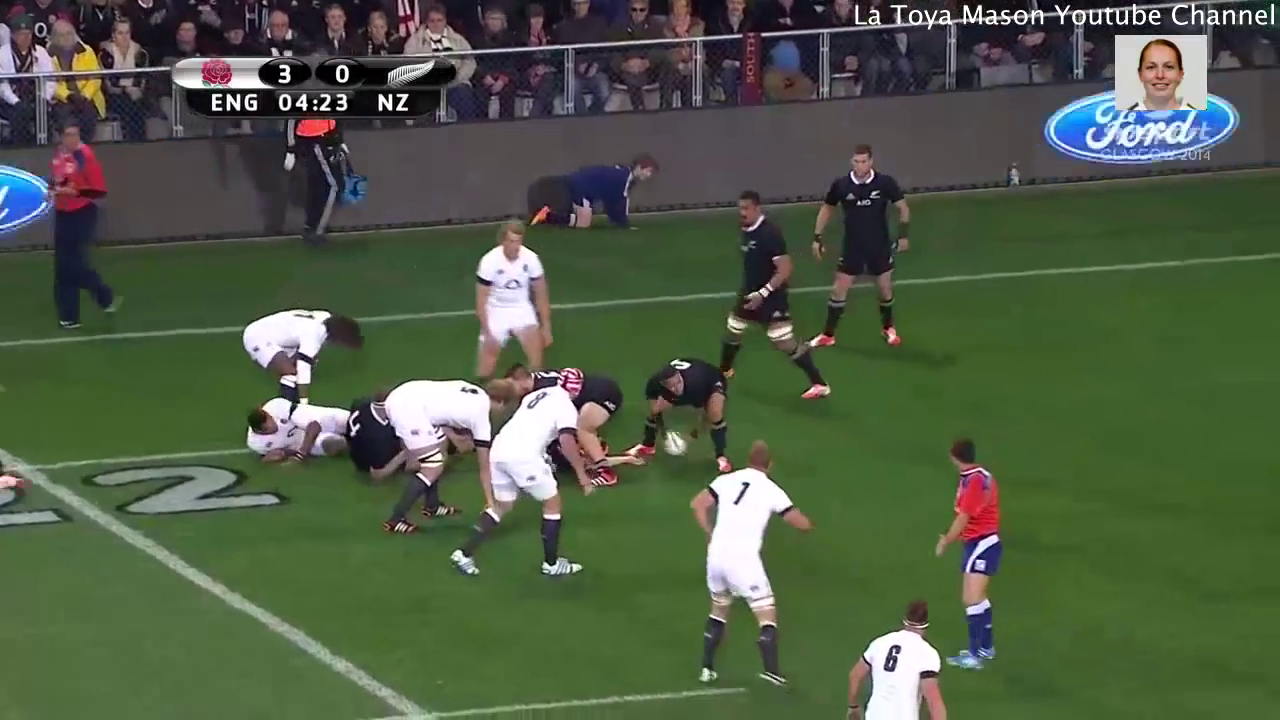ball: (650, 415, 696, 461)
player: (680, 429, 819, 698), (437, 354, 594, 585), (700, 184, 846, 401), (798, 140, 915, 368), (372, 363, 518, 542), (923, 428, 1020, 687), (221, 288, 369, 417), (615, 340, 741, 486), (460, 212, 553, 386), (842, 594, 961, 720), (229, 392, 354, 461), (338, 377, 406, 477)
